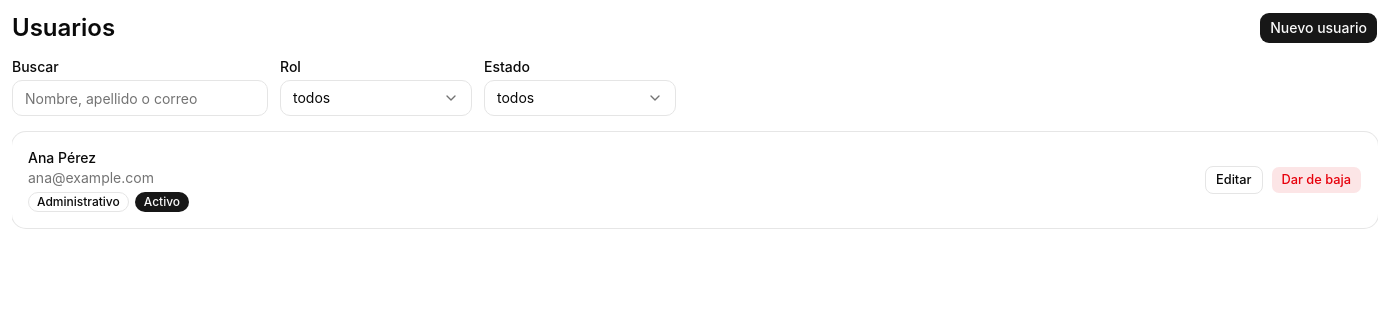
Test: UsersPage › shows the backend error when deactivating a user fails
Expected: the text "Ana Pérez" is shown, top-left (28, 149), bottom-right (96, 166)
Click the button "Dar de baja".
click(1316, 180)  # box top-left (1270, 166), bottom-right (1362, 194)
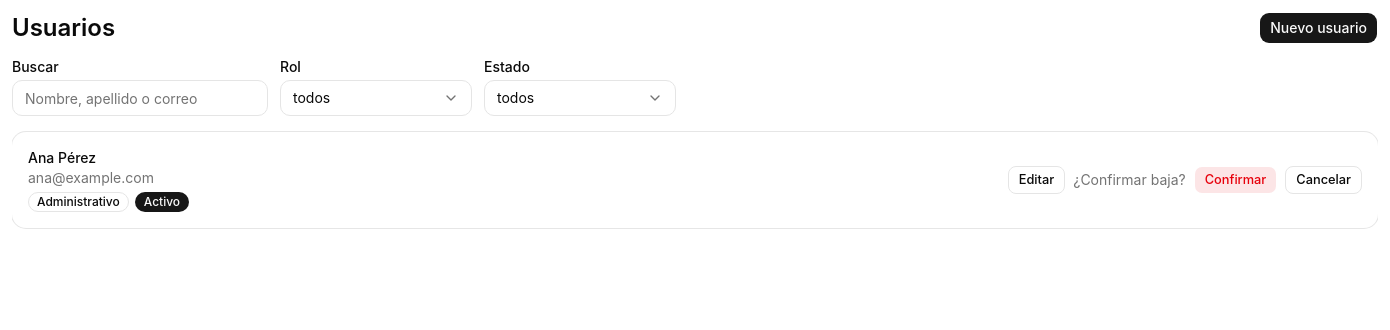
Click the button "Confirmar".
click(1236, 180)  # box top-left (1194, 166), bottom-right (1277, 194)
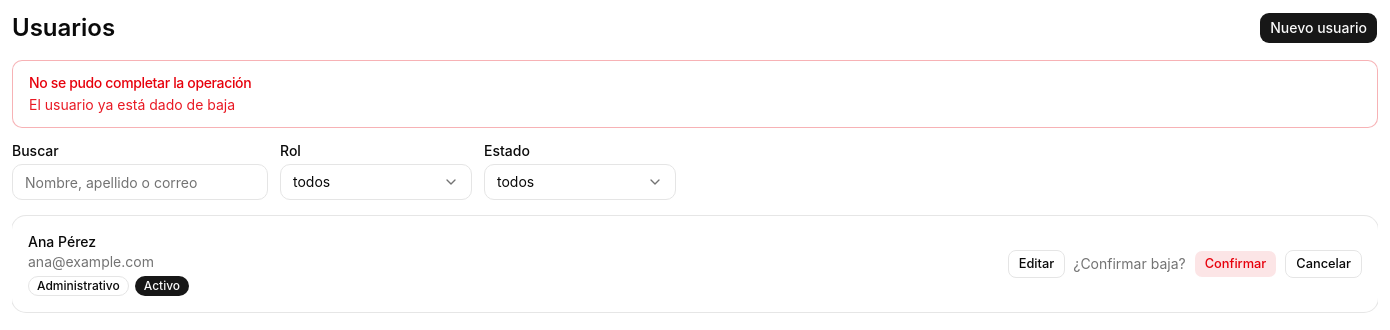
Now the button "Confirmar" is shown, box top-left (1194, 250), bottom-right (1277, 278)
Now the text "El usuario ya está dado de baja" is shown, box top-left (29, 96), bottom-right (235, 113)
